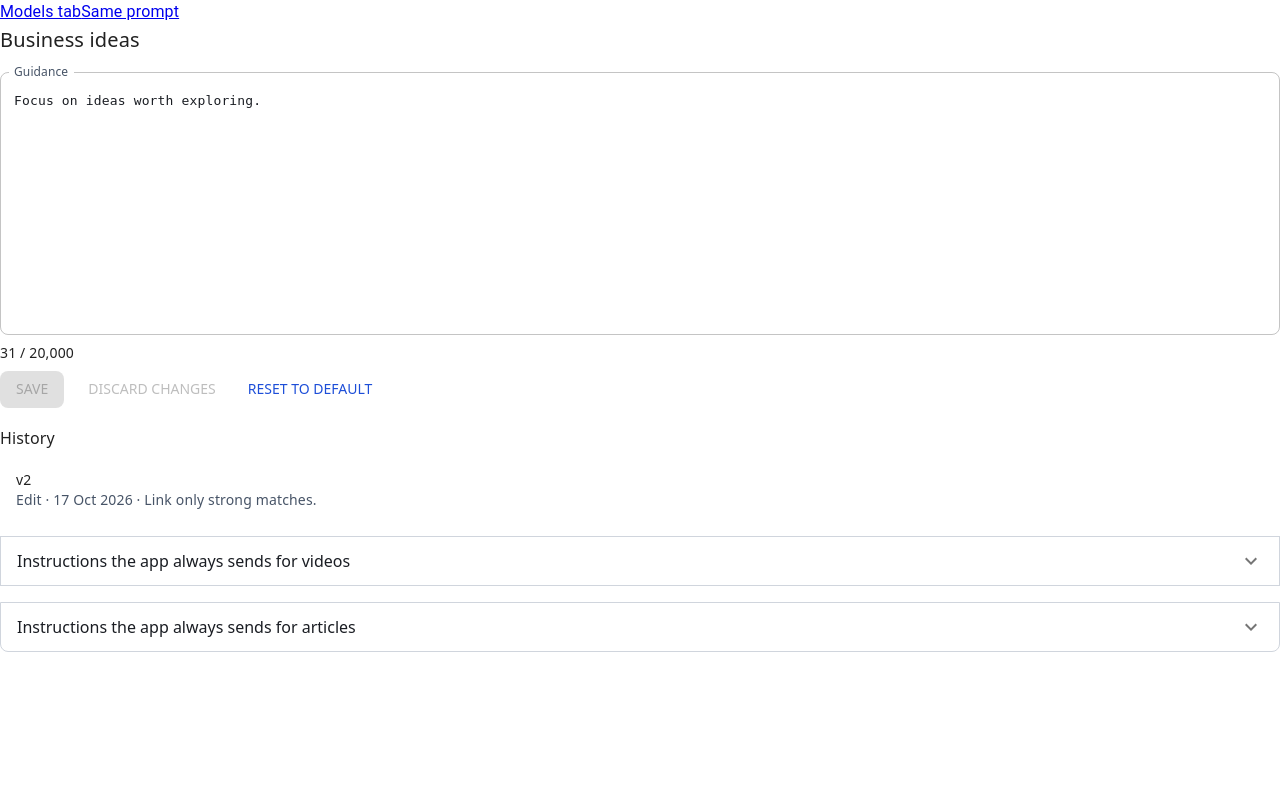
it: PromptPanel, unsaved changes › stays and keeps the edit when the user keeps editing
The width and height of the screenshot is (1280, 800).
Type " more" into the text box labelled "Guidance".
click(640, 204); type(" more")  # box [14,88,1266,318]
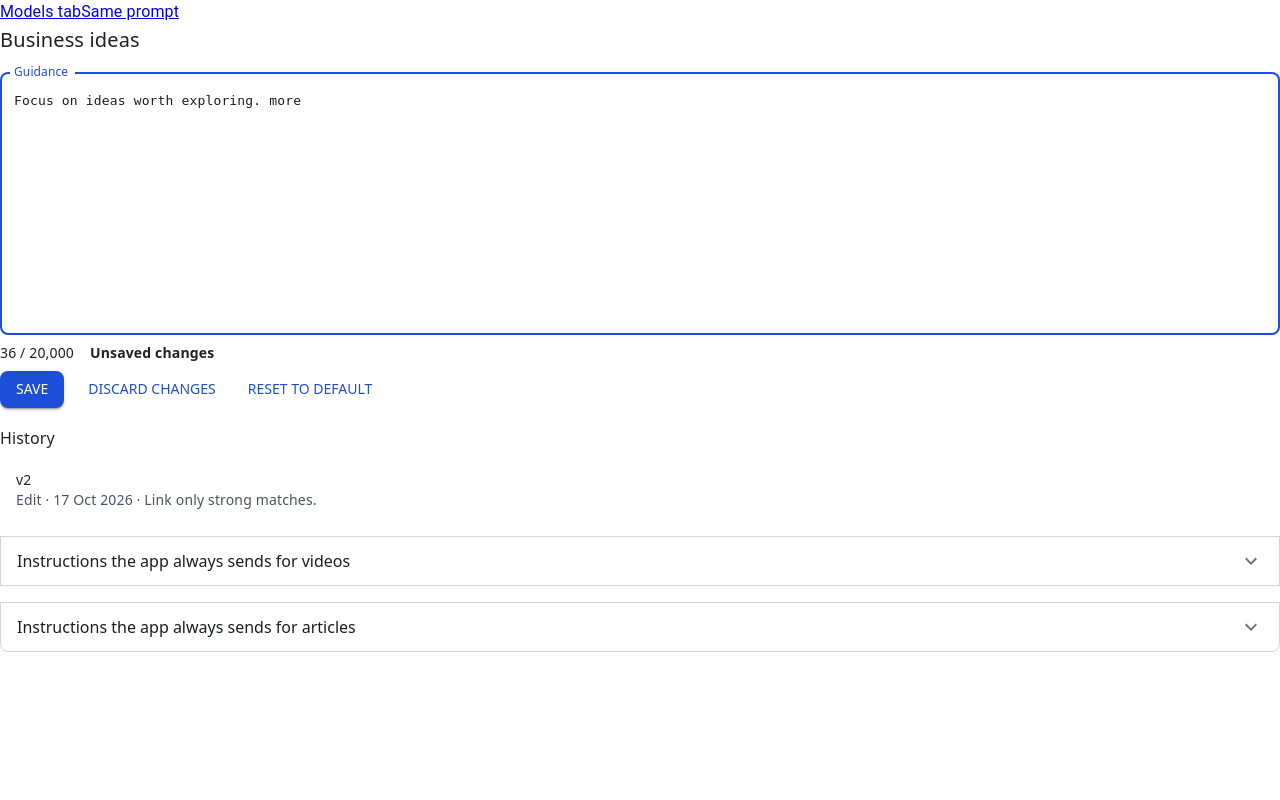
Click the link "Models tab".
click(41, 12)  # box [0,2,81,21]
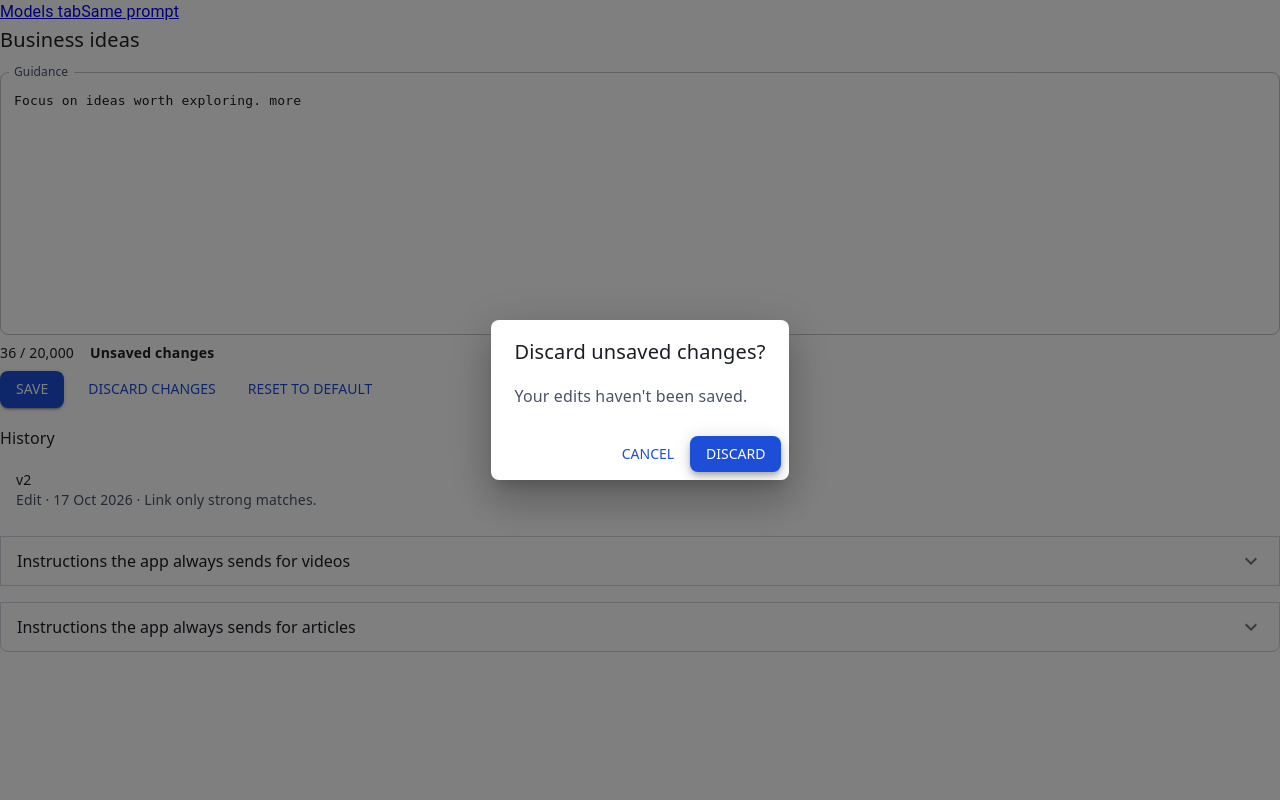
Click the button "Cancel".
click(648, 454)  # box [614,436,682,472]
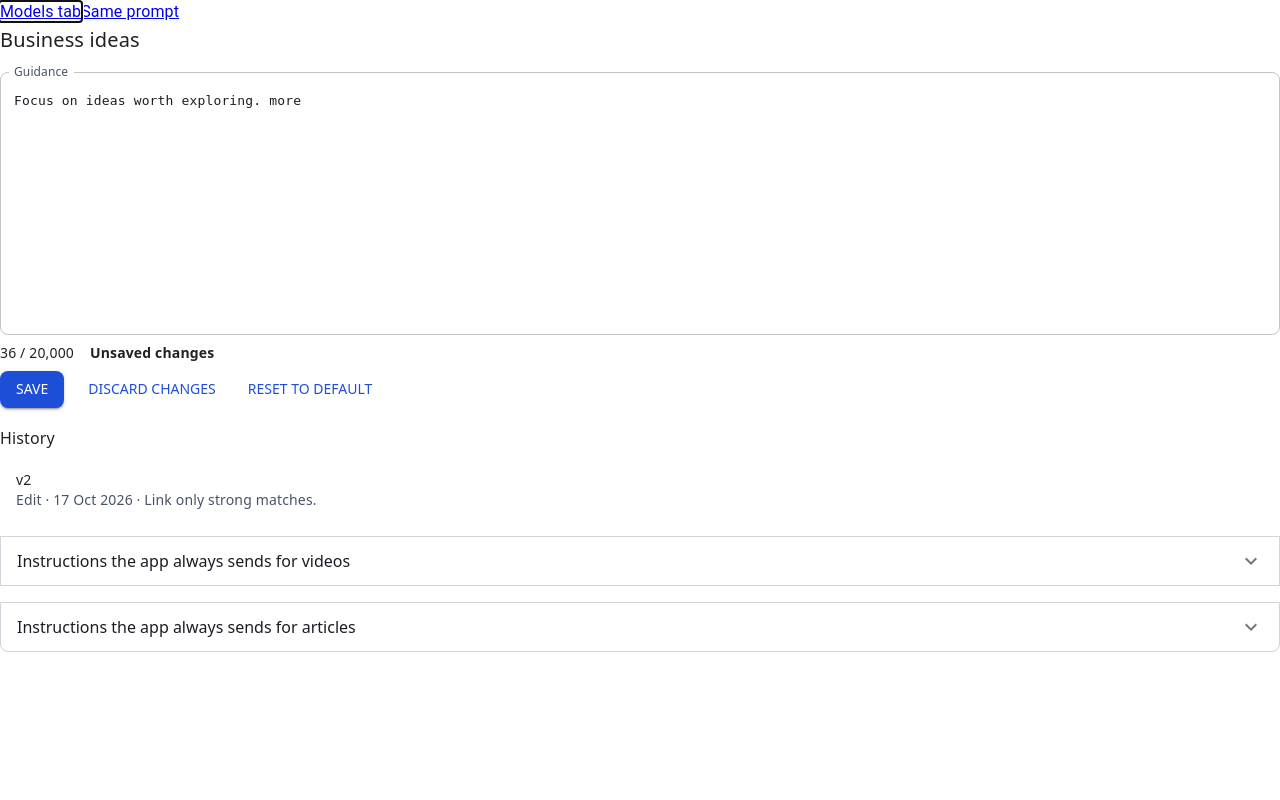
Expected: the text box labelled "Guidance" holds "Focus on ideas worth exploring. more", [14,88,1266,318]
Expected: the dialog is gone
